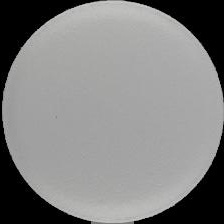42549-538: (0, 0, 224, 224)
